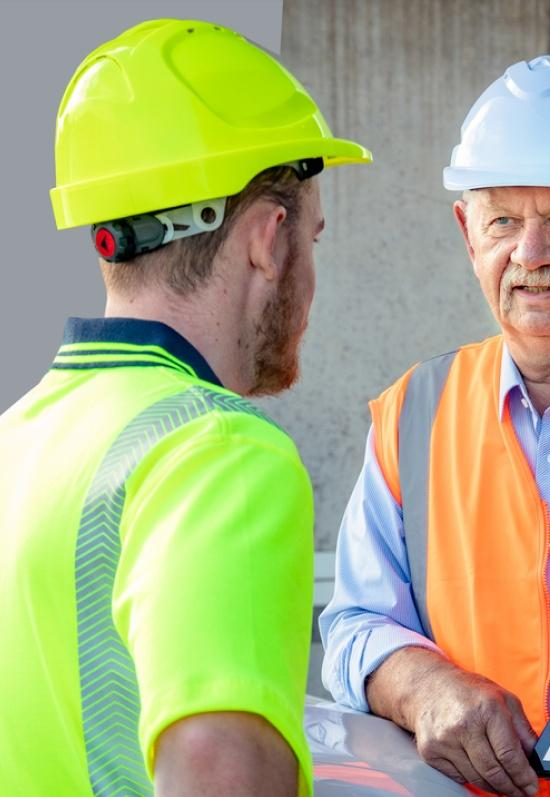helmet: (49, 14, 373, 246), (443, 58, 549, 204)
